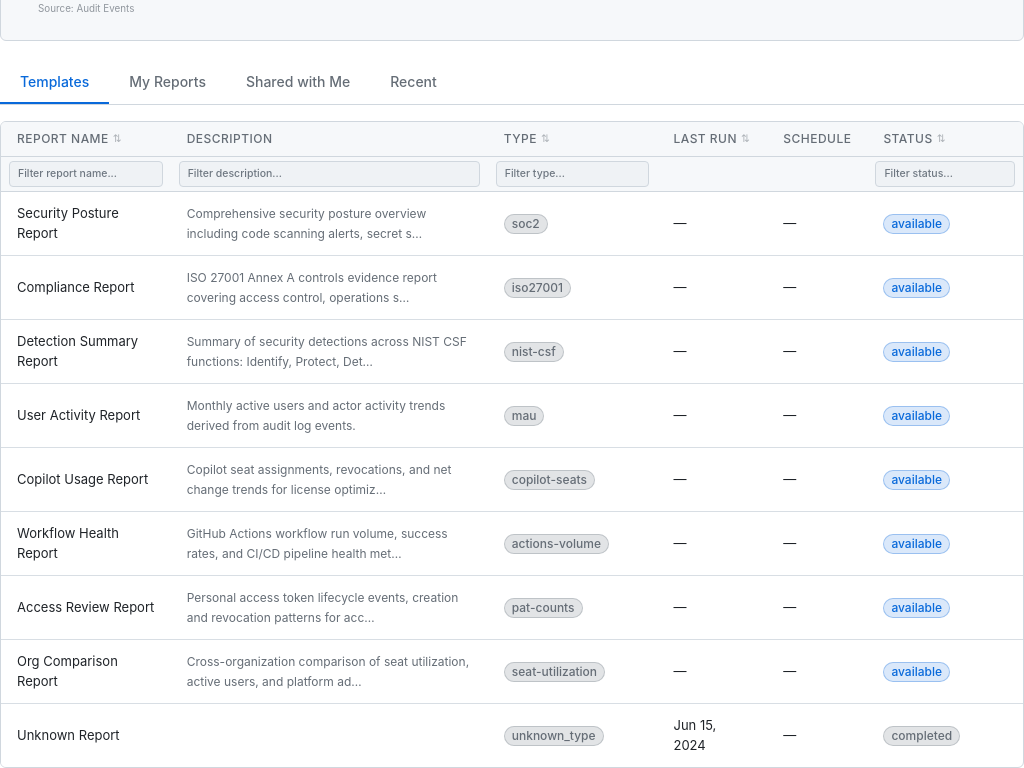
Scenario: ReportsPage › drawer shows "no data" for unknown report types
(page scrolled)
Click the text "Unknown Report": (68, 735) 17,727 -> 120,743
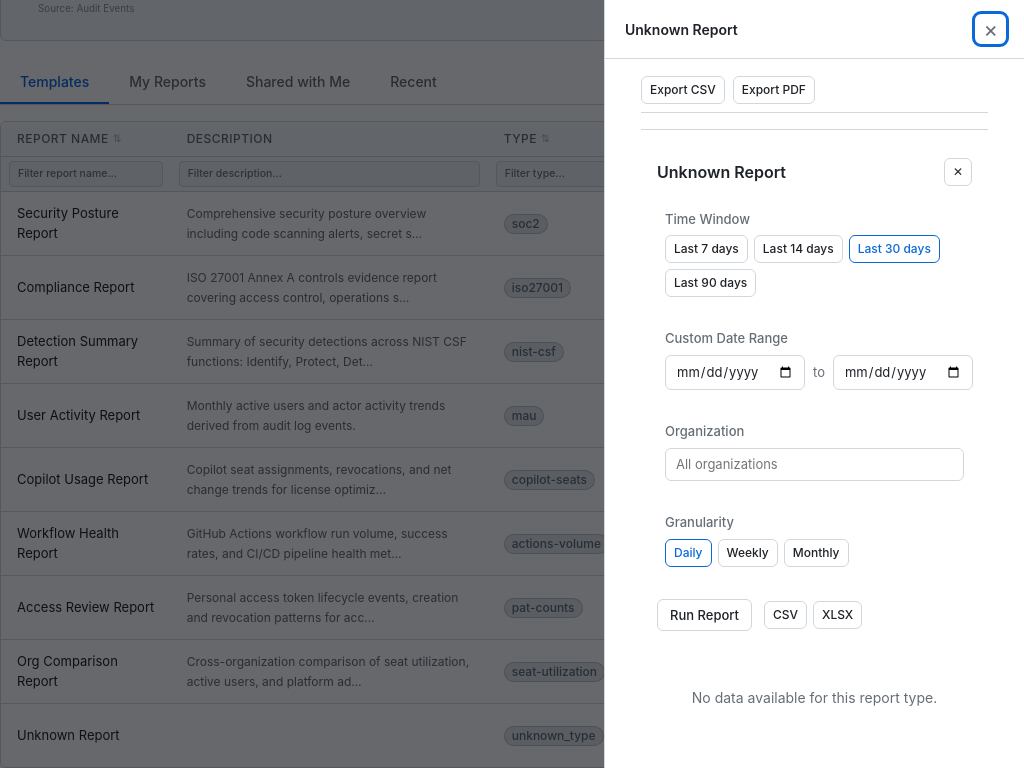
Expected: the text "No data available for this report type." is shown, 692,688 -> 937,706
